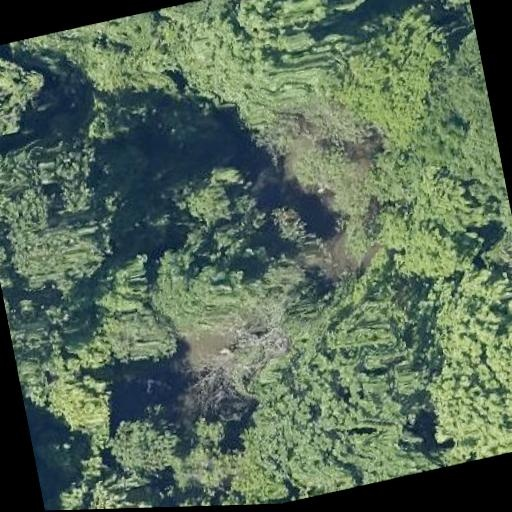tree-top: (238, 267, 436, 451), (0, 118, 131, 295), (178, 0, 344, 135), (319, 0, 466, 149), (74, 236, 194, 384), (417, 258, 512, 440), (370, 159, 492, 295), (150, 155, 271, 269), (410, 60, 505, 197), (80, 8, 179, 107), (5, 288, 91, 401), (332, 405, 438, 490), (99, 400, 188, 484), (218, 415, 293, 506), (164, 405, 234, 500), (0, 36, 52, 147), (285, 132, 359, 200), (78, 463, 174, 510), (79, 106, 126, 153)
